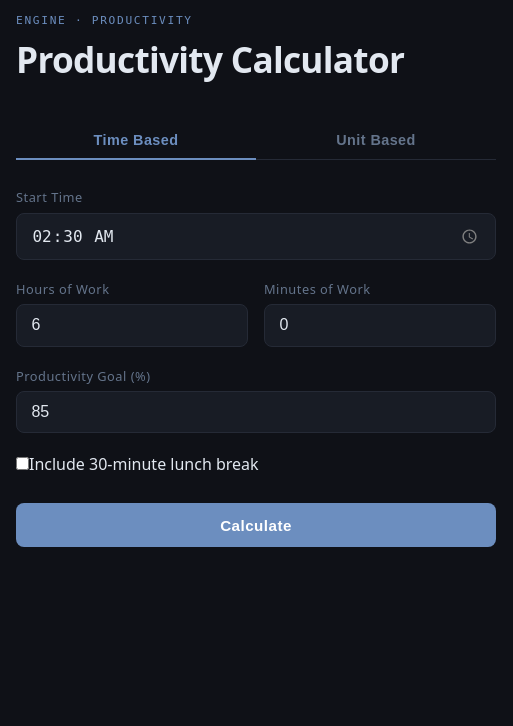
CalculatorPage › shows result cards on success
Click the button "Calculate".
click(256, 525)  # box [16,503,496,548]
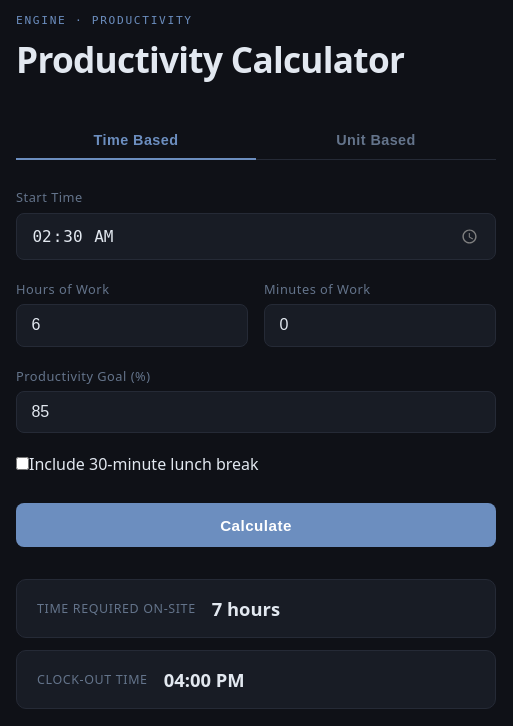
Check: the text "7 hours" is shown, box [212,596,280,622]
Check: the text "04:00 PM" is shown, box [164,668,245,692]
